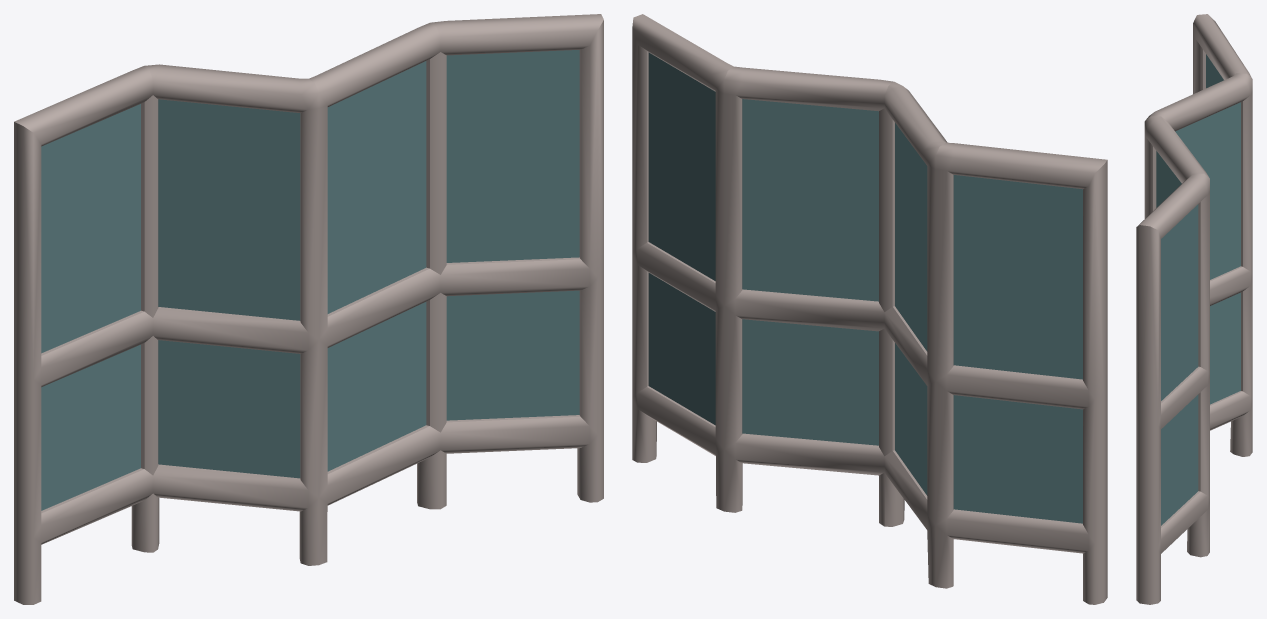
File: OT_005_room_divider.glb
The picture shows the model from 3 angles, left to right: view 1: azimuth 30°, elevation 25°; view 2: azimuth 150°, elevation 25°; view 3: azimuth 270°, elevation 25°; orthographic projection. The views are drawn at different scales.
Visible parts, largest first — view 1: wall, structure; view 2: wall, structure; view 3: structure, wall.
Boxes of the visible parts, left/top/right/bottom form: wall: left=41, top=50, right=579, bottom=510; structure: left=14, top=14, right=603, bottom=604; wall: left=648, top=52, right=1082, bottom=523; structure: left=632, top=14, right=1107, bottom=604; structure: left=1136, top=14, right=1252, bottom=604; wall: left=1156, top=54, right=1240, bottom=525.
Bounding box in the file's own units: 2.94 × 2.44 × 0.6798.
